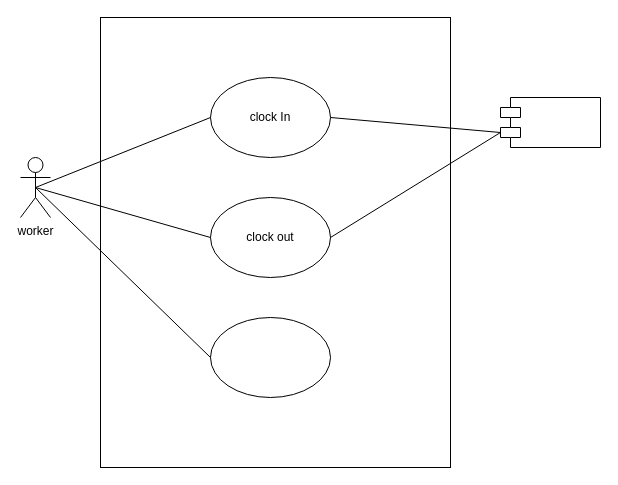
Image size: 618x485. Some labels were removed from this diagram. Here are the shapes that lost their labels. From the top down, the box of each, then its label:
(500, 96, 600, 148): shift module
(210, 316, 330, 398): return shift page
